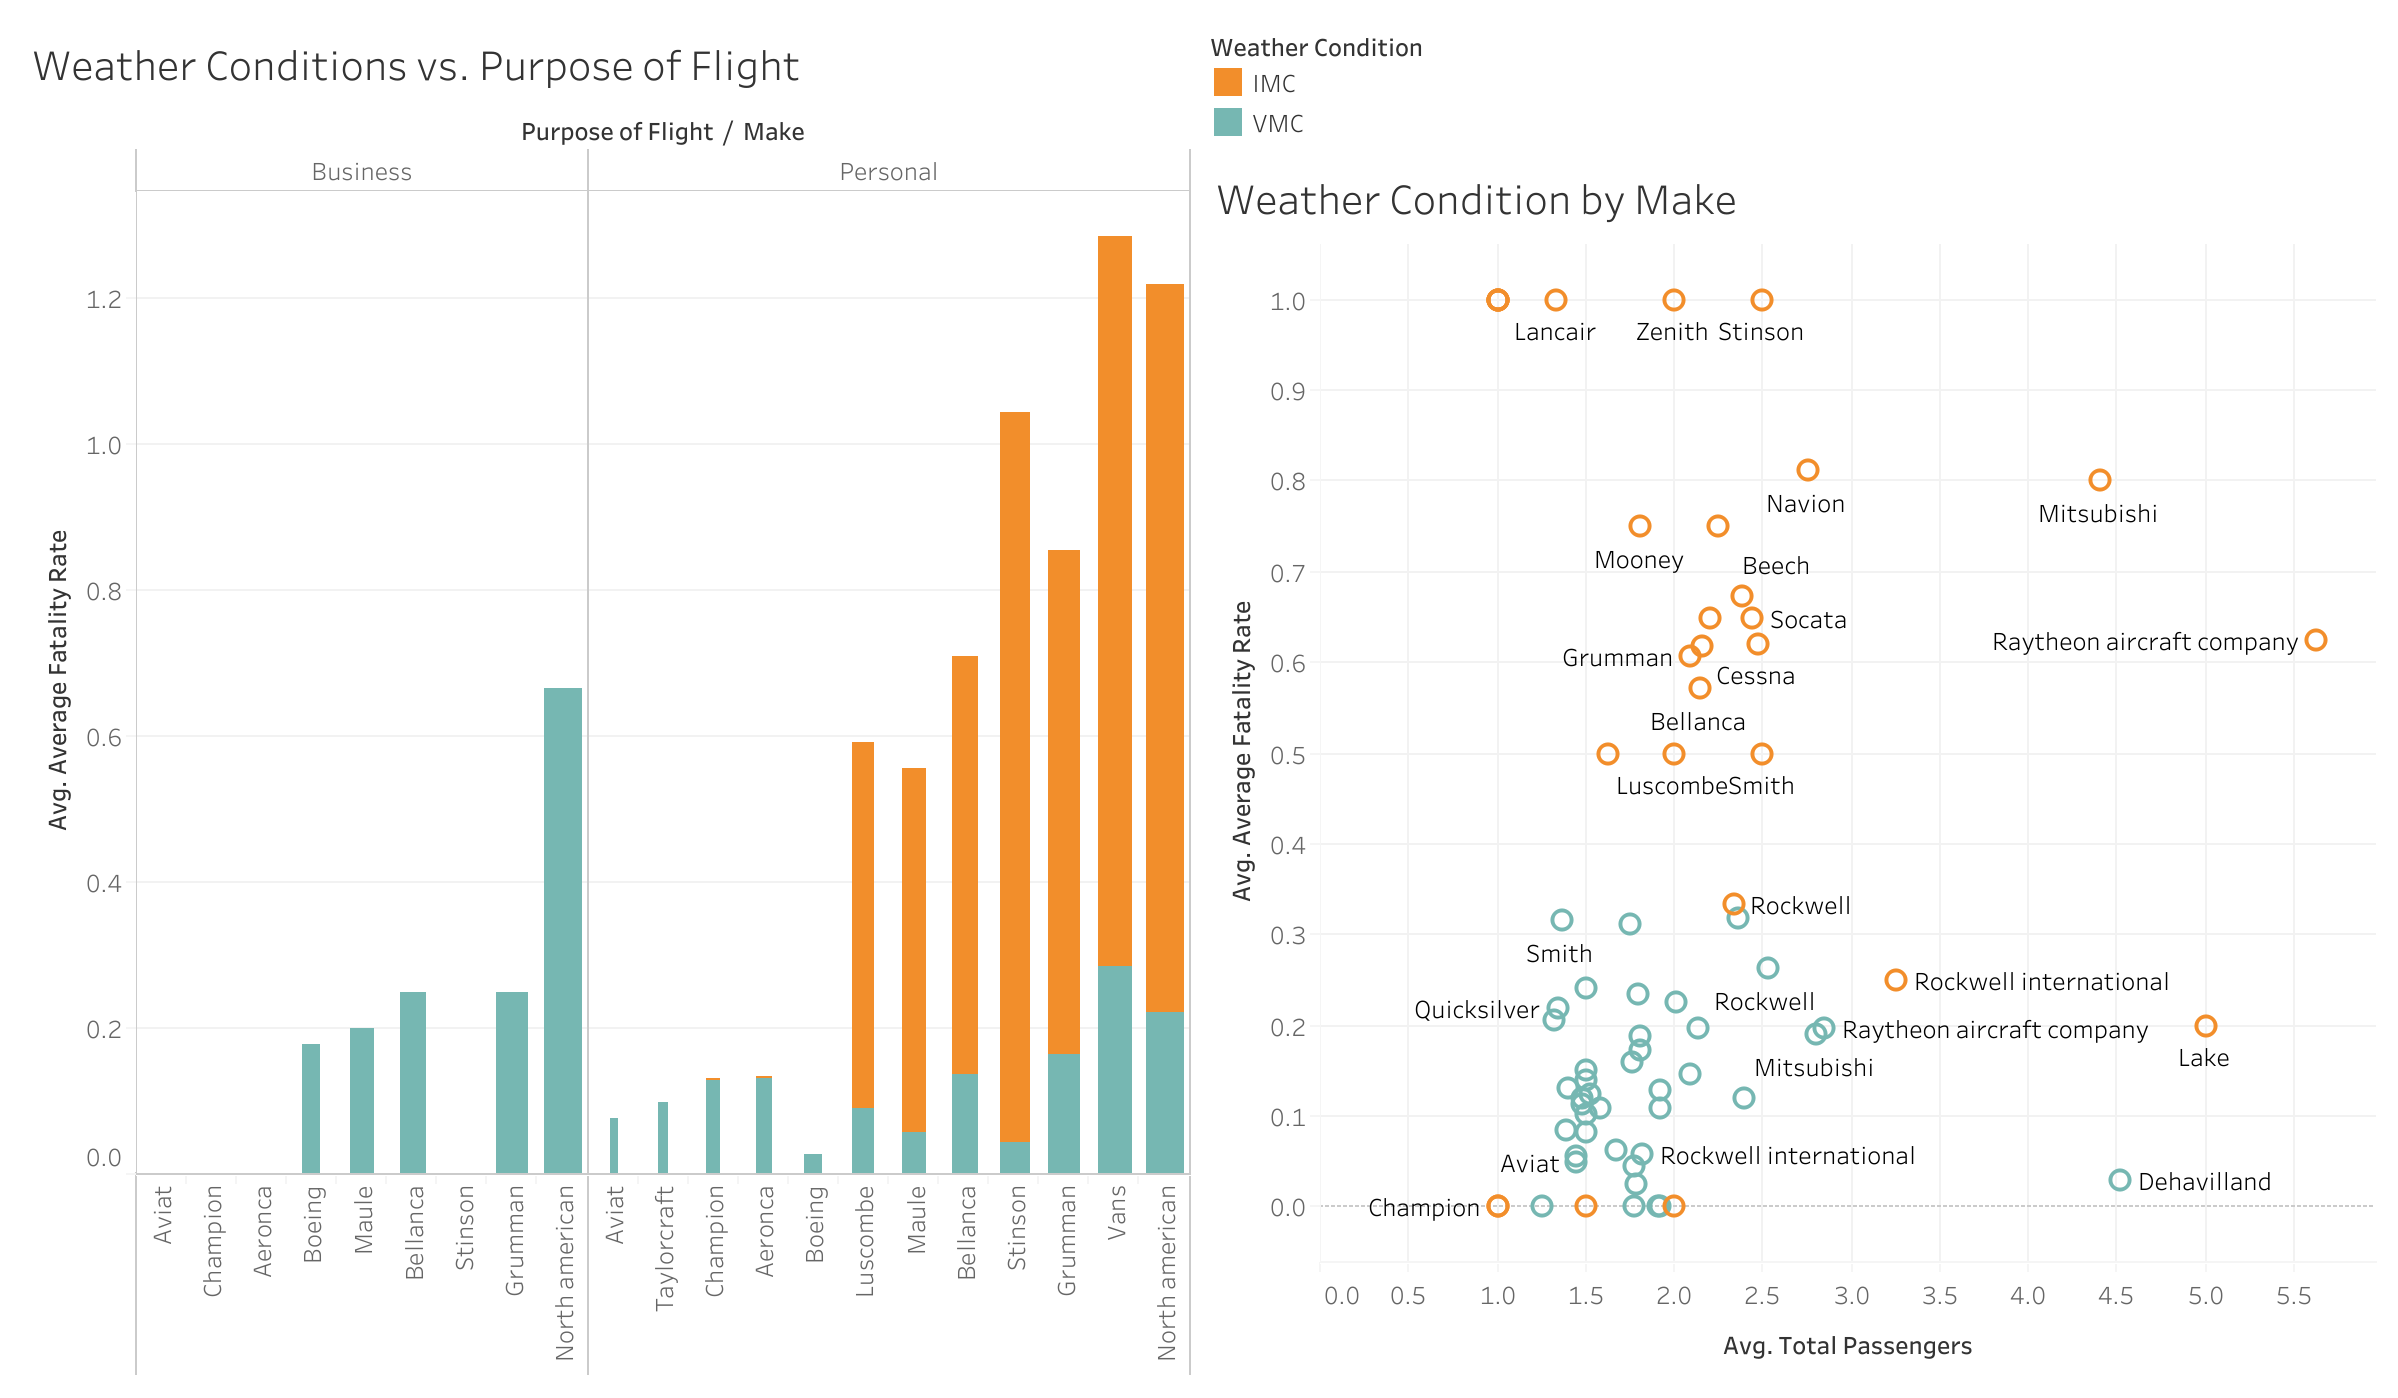

This screenshot's page, from the dashboard's own definition file:
{"tool":"tableau","page":{"name":"Dashboard 2","canvas":[1000,1000],"units":"permille","ordinal":1},"visuals":[{"type":"worksheet","title":"Sheet 18","mark":"Automatic","rows":["Average Fatality Rate"],"cols":["Purpose of Flight","Make"],"box":[6.7,11.2,493.3,977.6]},{"type":"legend","title":"Sheet 18","param":"[federated.0c98ski165h6uy16yffmv1abkgx4].[none:Weather Condition:nk]","box":[500,11.2,493.3,92.6]},{"type":"worksheet","title":"Sheet 17","mark":"Automatic","rows":["Average Fatality Rate"],"cols":["Total Passengers"],"box":[500,103.8,493.3,885]}]}

Visuals, with their boxes on the dashboard's canvas, which has no fixed pixel size, in thousandths of its width and height (x1, y1, x2, y2). These are canvas units, not pixel positions in the 2398x1398 screenshot, which may show the page scaled, cropped or inside an application window:
"Sheet 18" worksheet: x1=7, y1=11, x2=500, y2=989
"Sheet 18" legend: x1=500, y1=11, x2=993, y2=104
"Sheet 17" worksheet: x1=500, y1=104, x2=993, y2=989
